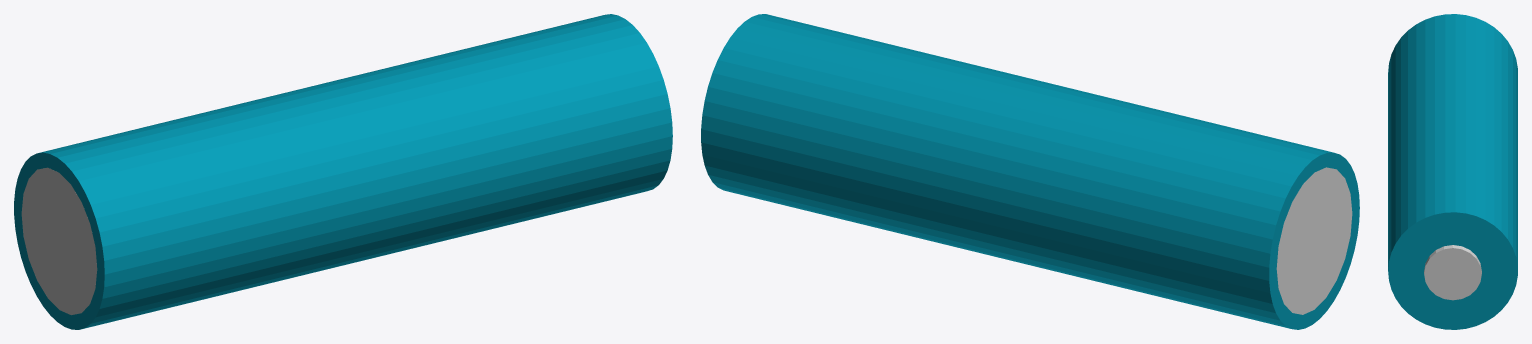
File: Batrie.glb
3 views of the same model, side by side, from view 1: azimuth 30°, elevation 25°; view 2: azimuth 150°, elevation 25°; view 3: azimuth 270°, elevation 25° (orthographic). The views are drawn at different scales.
Parts seen in each view (by area): view 1: Mesh_Mesh_head_geo.001_lambert2SG.001; view 2: Mesh_Mesh_head_geo.001_lambert2SG.001; view 3: Mesh_Mesh_head_geo.001_lambert2SG.001.
Boxes of the visible parts, <box> form: Mesh_Mesh_head_geo.001_lambert2SG.001: <box>14,14,672,329</box>; Mesh_Mesh_head_geo.001_lambert2SG.001: <box>701,14,1359,329</box>; Mesh_Mesh_head_geo.001_lambert2SG.001: <box>1388,14,1517,329</box>.
Size of the model in its own units: 0.066 by 0.018 by 0.018.
